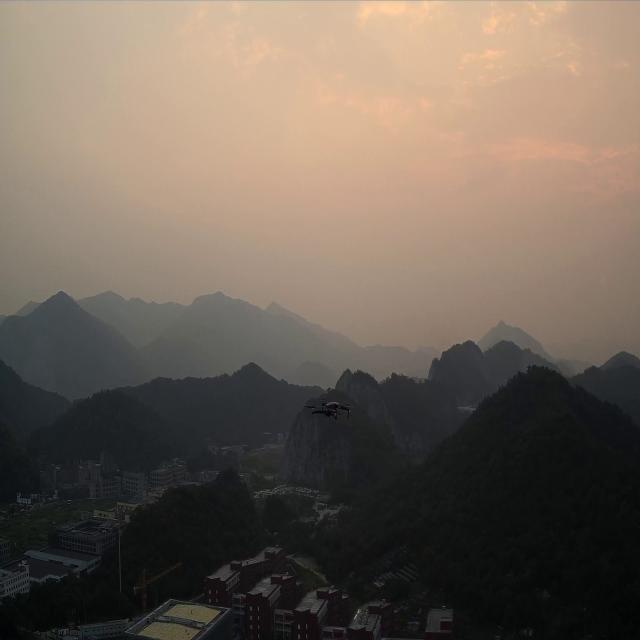UAV: (302, 395, 352, 424)
